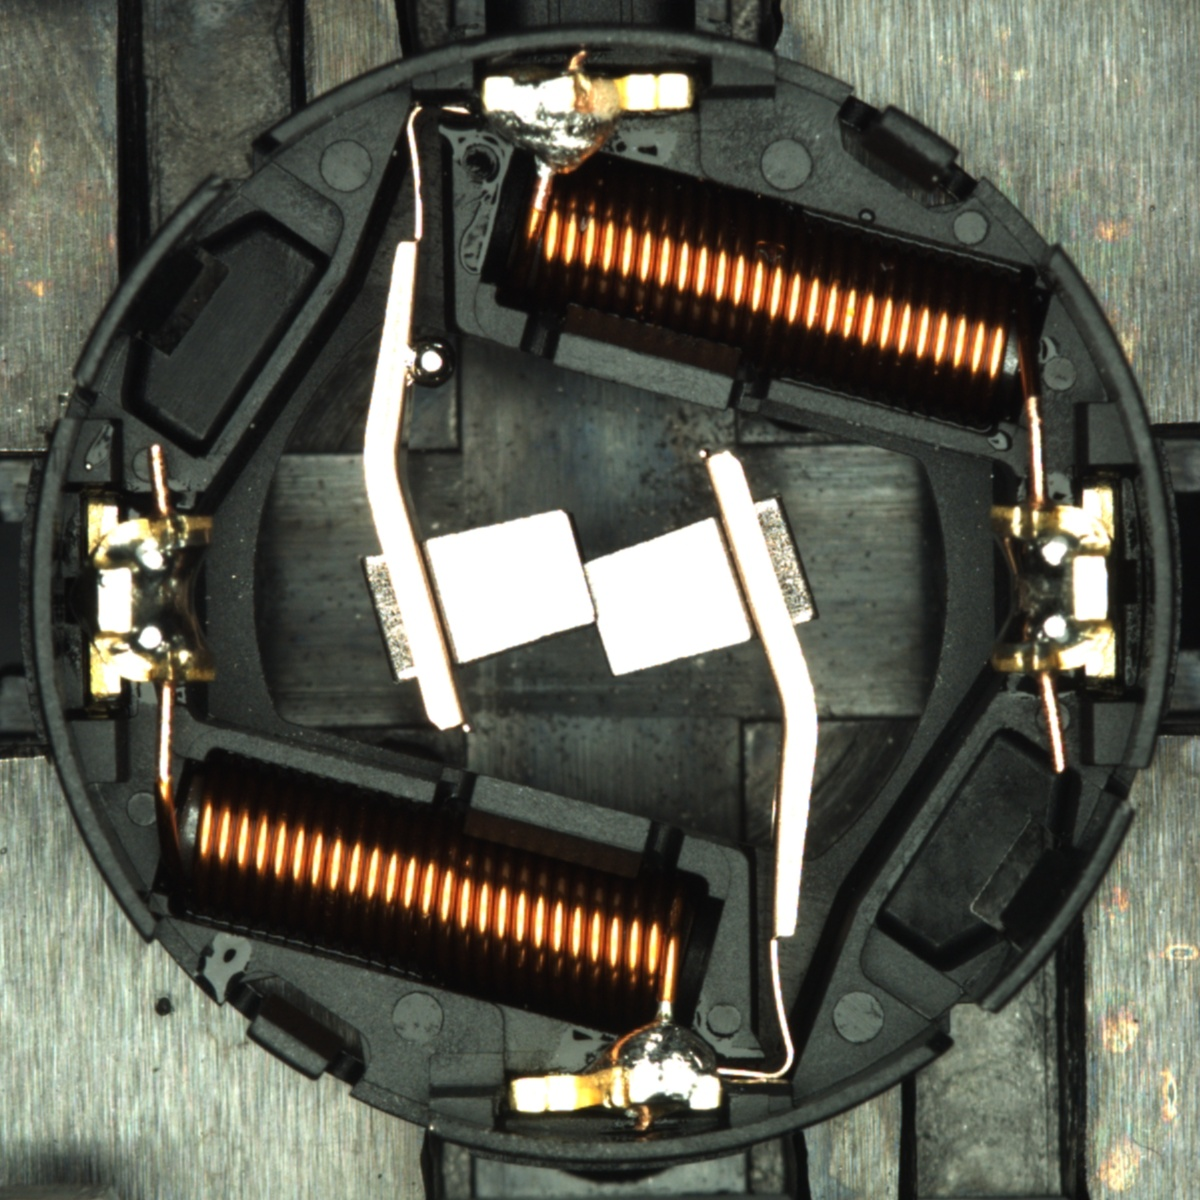1: (707, 928, 936, 1153), (248, 31, 477, 255)
2: (248, 928, 477, 1153), (707, 31, 936, 255)
3: (19, 255, 248, 479), (936, 704, 1165, 928)
4: (248, 255, 477, 479), (707, 704, 936, 928)
5: (477, 143, 707, 367), (477, 816, 707, 1040)
6: (707, 255, 936, 479), (248, 704, 477, 928)
7: (936, 255, 1165, 479), (19, 704, 248, 928)
bui_chi: (83, 461, 94, 472)
cacbon: (388, 500, 796, 683)
chau_dien: (81, 497, 220, 699), (982, 487, 1122, 686)
hat_chi: (408, 337, 456, 389)
tay_choi: (481, 70, 696, 174), (509, 1018, 724, 1116)
thanh_de: (954, 790, 1140, 1028), (60, 166, 242, 404)
